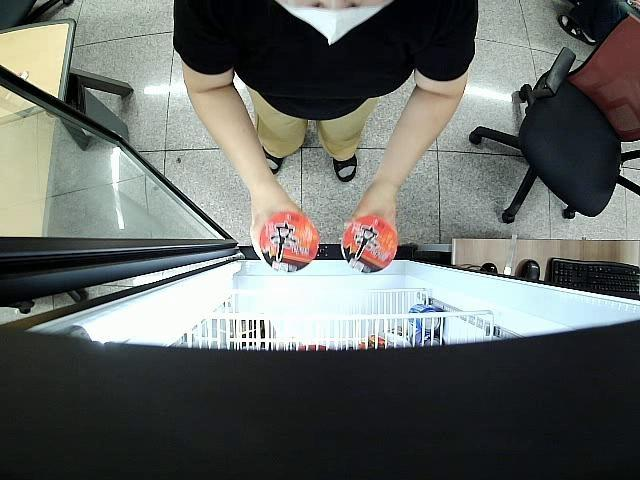02_shinRamen_S: (260, 210, 320, 273), (340, 216, 398, 273)
